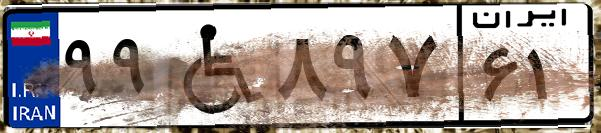1: (525, 38, 570, 115)
6: (475, 38, 525, 113)
7: (385, 28, 445, 110)
8: (270, 28, 330, 110)
9: (330, 28, 385, 110), (57, 26, 110, 100), (110, 28, 158, 98)
ژ (معلولین و جانبازان): (158, 12, 270, 120)
